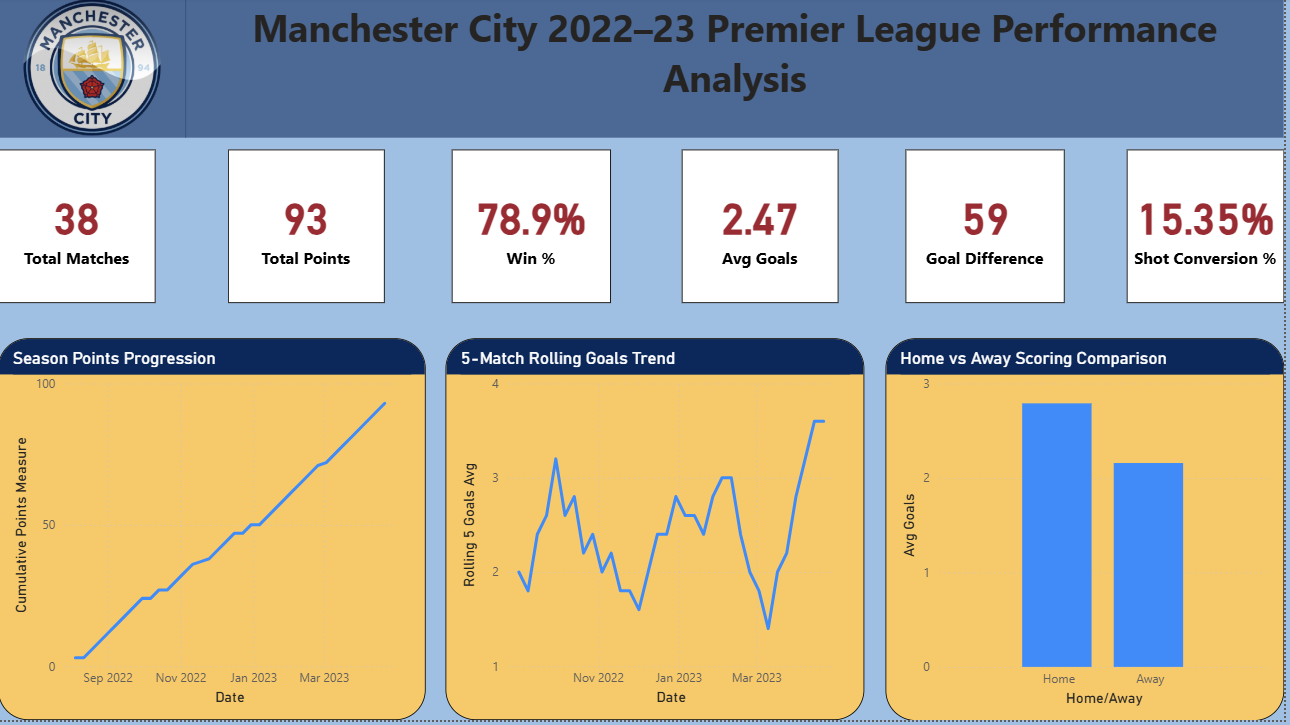

This screenshot's page, from the dashboard's own definition file:
{"tool":"powerbi","page":{"name":"Page 1","canvas":[1280,720],"ordinal":0},"visuals":[{"type":"card","fields":{"Values":["ManCity_2022_23_Final_Cleaned.Total Matches"]},"box":[0,151.4,157.1,152.9],"z":0},{"type":"card","fields":{"Values":["ManCity_2022_23_Final_Cleaned.Total Points"]},"box":[228.6,151.4,155.7,152.9],"z":1000},{"type":"card","fields":{"Values":["ManCity_2022_23_Final_Cleaned.Avg Goals"]},"box":[680,151.4,155.7,152.9],"z":2000},{"type":"card","fields":{"Values":["ManCity_2022_23_Final_Cleaned.Total Goal Difference"]},"box":[902.9,151.4,158.6,152.9],"z":3000},{"type":"card","fields":{"Values":["ManCity_2022_23_Final_Cleaned.Win %"]},"box":[451.4,151.4,158.6,152.9],"z":4000},{"type":"lineChart","title":"Season Points Progression","fields":{"Category":["ManCity_2022_23_Final_Cleaned.Date"],"Y":["ManCity_2022_23_Final_Cleaned.Cumulative Points Measure"]},"box":[0,340,425.7,380],"z":5000},{"type":"lineChart","title":"5-Match Rolling Goals Trend","fields":{"Y":["Sum(ManCity_2022_23_Final_Cleaned.Rolling 5 Goals Avg)"],"Category":["ManCity_2022_23_Final_Cleaned.Date"]},"box":[445.7,340,417.1,380],"z":6000},{"type":"clusteredColumnChart","title":"Home vs Away Scoring Comparison","fields":{"Category":["ManCity_2022_23_Final_Cleaned.Home/Away"],"Y":["ManCity_2022_23_Final_Cleaned.Avg Goals"]},"box":[883.2,339.6,396.8,380.7],"z":7000},{"type":"card","fields":{"Values":["ManCity_2022_23_Final_Cleaned.Avg Shot Conversion %"]},"box":[1122.9,151.4,157.1,152.9],"z":8000},{"type":"textbox","box":[187.1,0,1092.9,140],"z":9000},{"type":"image","box":[0,0,187.1,140],"z":10000}]}

Visuals, with their boxes in screenshot pixels (x1, y1, x2, y2), scaled from the page's 1280x720 canvas onto the 1290x725 screenshot:
card - ManCity_2022_23_Final_Cleaned.Total Matches: 0 152 158 306
card - ManCity_2022_23_Final_Cleaned.Total Points: 230 152 387 306
card - ManCity_2022_23_Final_Cleaned.Avg Goals: 685 152 842 306
card - ManCity_2022_23_Final_Cleaned.Total Goal Difference: 910 152 1070 306
card - ManCity_2022_23_Final_Cleaned.Win %: 455 152 615 306
"Season Points Progression" lineChart: 0 342 429 724
"5-Match Rolling Goals Trend" lineChart: 449 342 870 724
"Home vs Away Scoring Comparison" clusteredColumnChart: 890 342 1289 724
card - ManCity_2022_23_Final_Cleaned.Avg Shot Conversion %: 1132 152 1289 306
textbox: 189 0 1289 141
image: 0 0 189 141
